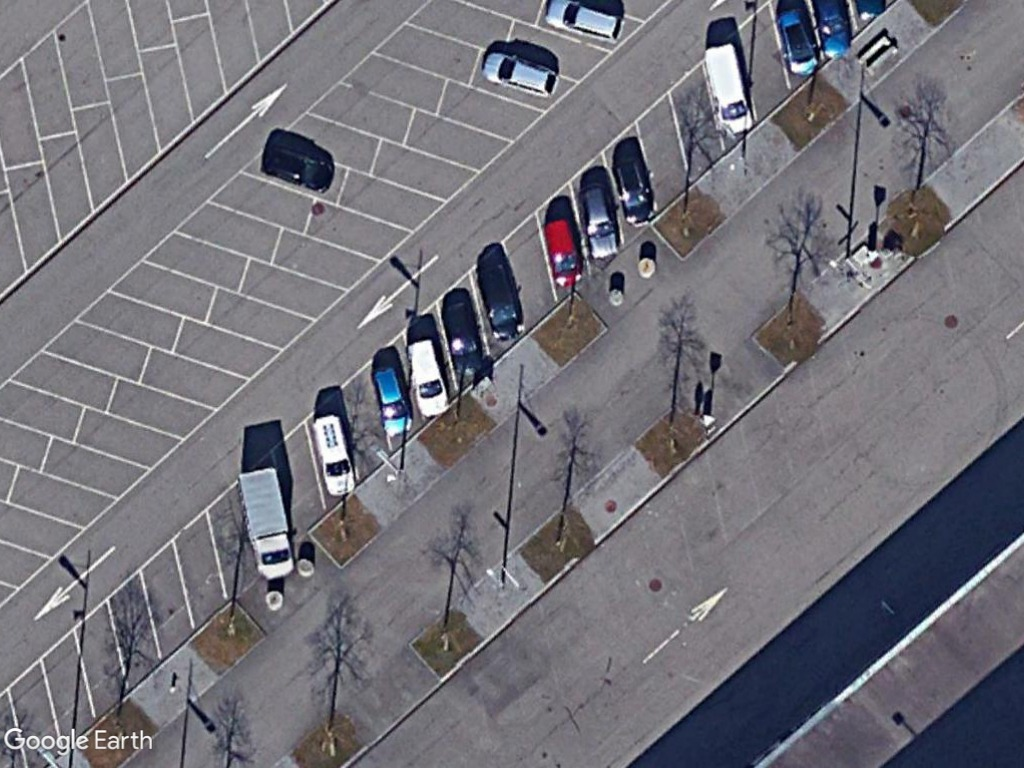car: (479, 49, 562, 101), (405, 334, 452, 419), (575, 182, 622, 261), (540, 214, 587, 289), (369, 363, 413, 437)
truck: (234, 466, 297, 581)
van: (701, 40, 755, 136), (309, 413, 357, 497)
